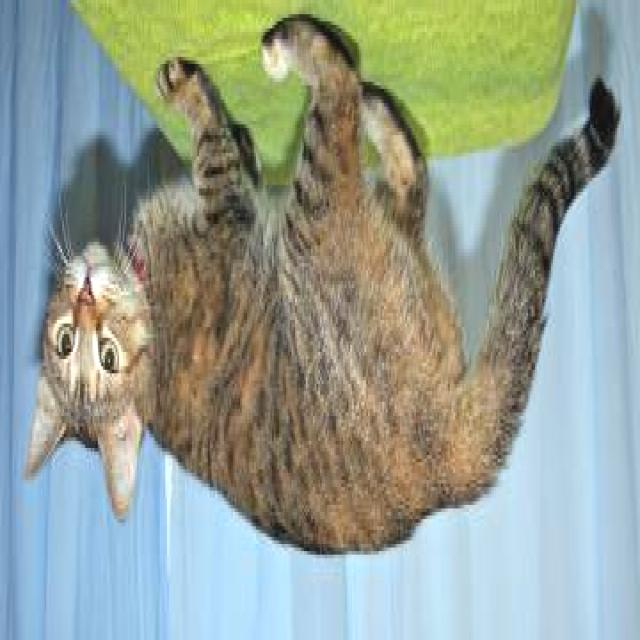Kucing: (15, 13, 608, 580)
